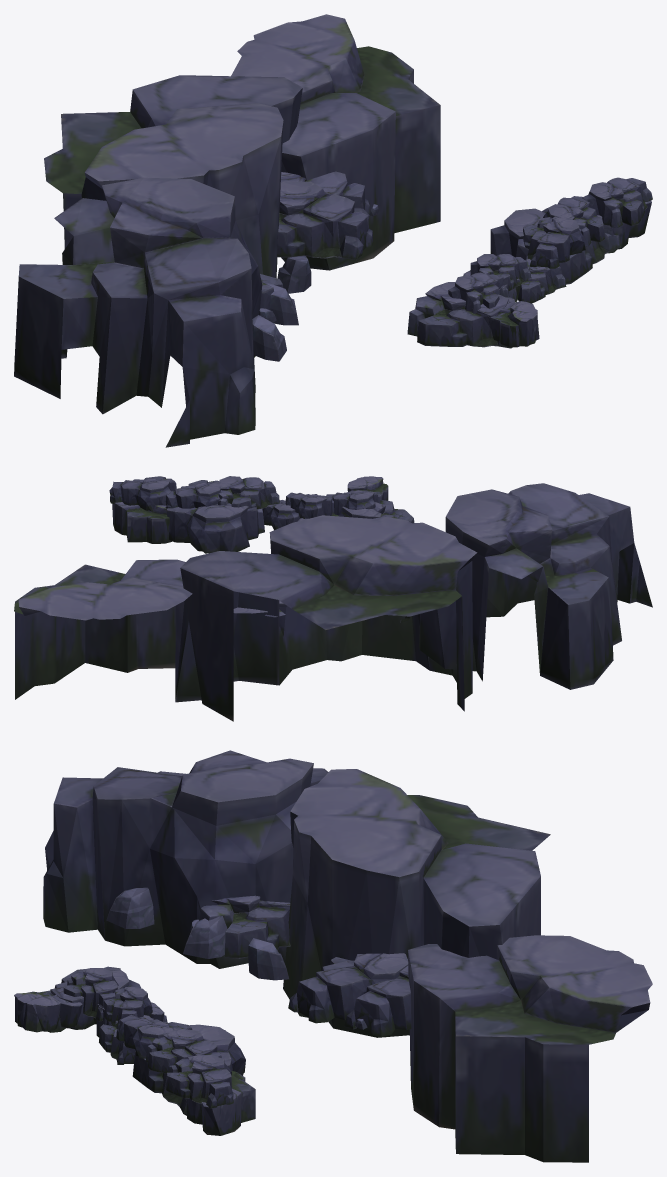
Rendered from Area14_14.fbx.
3 renders of one model, top to bottom at view 1: azimuth 30°, elevation 25°; view 2: azimuth 150°, elevation 25°; view 3: azimuth 270°, elevation 25°, orthographic. The views are drawn at different scales.
Parts seen in each view (by area): view 1: Area14_14; view 2: Area14_14; view 3: Area14_14.
Part boxes in pixels (x1=…): Area14_14: x1=14, y1=14, x2=652, y2=447; Area14_14: x1=14, y1=476, x2=652, y2=721; Area14_14: x1=14, y1=750, x2=652, y2=1162.
Size of the model in its own units: 8857 by 2662 by 8016.
